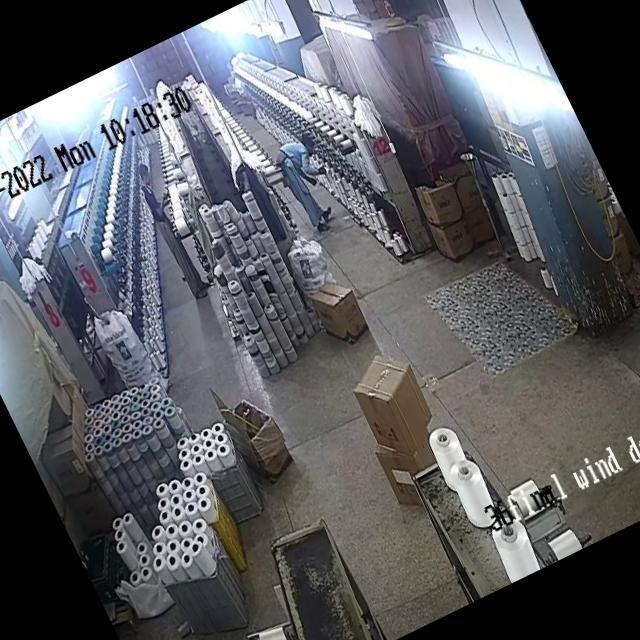person: (130, 162, 207, 290), (272, 132, 346, 238)
